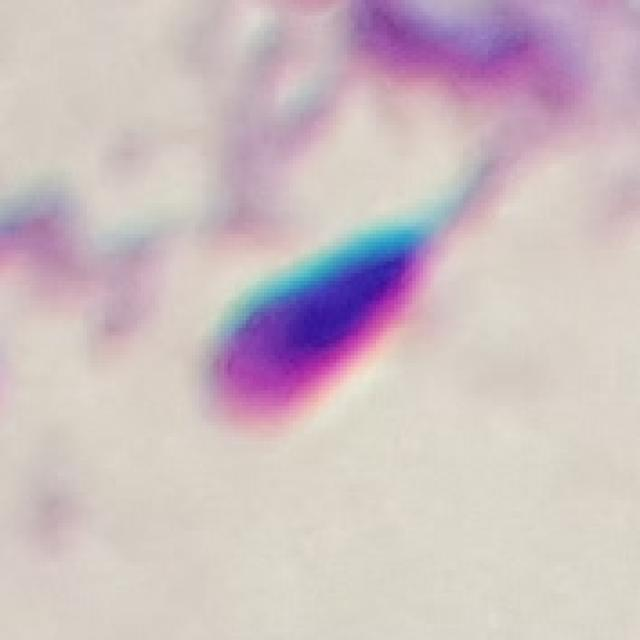abnormal sperm: (188, 93, 544, 446)
